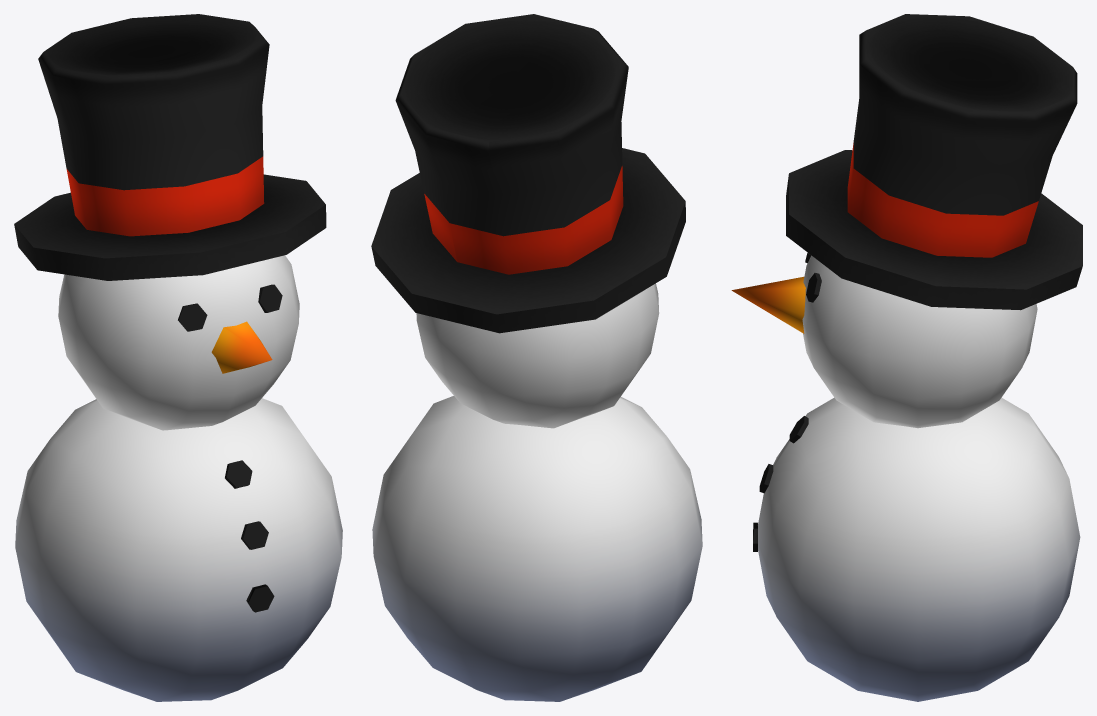
The model's file is ykidaruma_02.fbx.
The picture shows the model from 3 angles, left to right: view 1: azimuth 30°, elevation 25°; view 2: azimuth 150°, elevation 25°; view 3: azimuth 270°, elevation 25°; orthographic projection.
Parts seen in each view (by area): view 1: pCube10, pCylinder5, pCube11, pSphere1, pCylinder21, pCylinder22, pCylinder23, pCylinder24, pCylinder20; view 2: pCube10, pCylinder5, pCube11; view 3: pCube10, pCylinder5, pCube11, pSphere1.
Part boxes in pixels (<box>): pCube10: <box>15,398,342,701</box>; pCylinder5: <box>14,14,326,280</box>; pCube11: <box>58,255,299,430</box>; pSphere1: <box>211,321,272,373</box>; pCylinder21: <box>178,303,207,331</box>; pCylinder22: <box>241,521,268,549</box>; pCylinder23: <box>225,460,252,488</box>; pCylinder24: <box>246,584,274,612</box>; pCylinder20: <box>258,284,282,312</box>; pCube10: <box>372,396,702,701</box>; pCylinder5: <box>371,14,685,333</box>; pCube11: <box>416,283,659,428</box>; pCube10: <box>758,397,1080,701</box>; pCylinder5: <box>786,14,1082,310</box>; pCube11: <box>802,255,1037,428</box>; pSphere1: <box>731,276,805,333</box>.
Size of the model in its own units: 0.9338 by 2.03 by 1.01.
